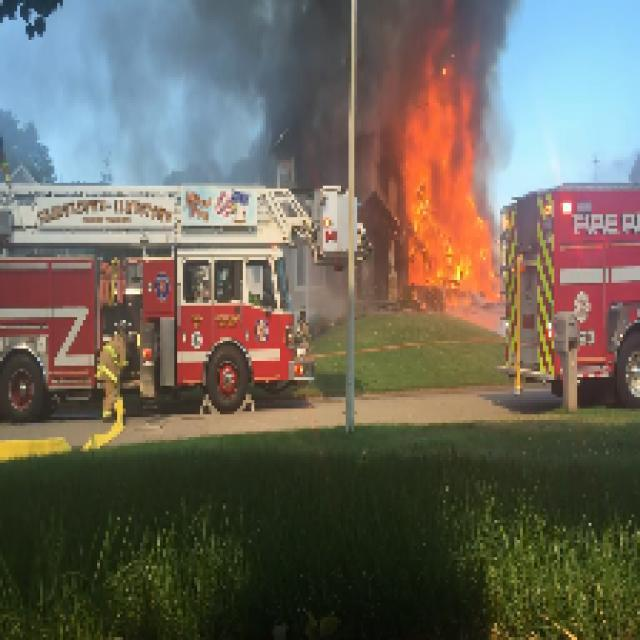Fire: (401, 100, 504, 292)
Smoke: (273, 0, 381, 191), (398, 9, 489, 82)
